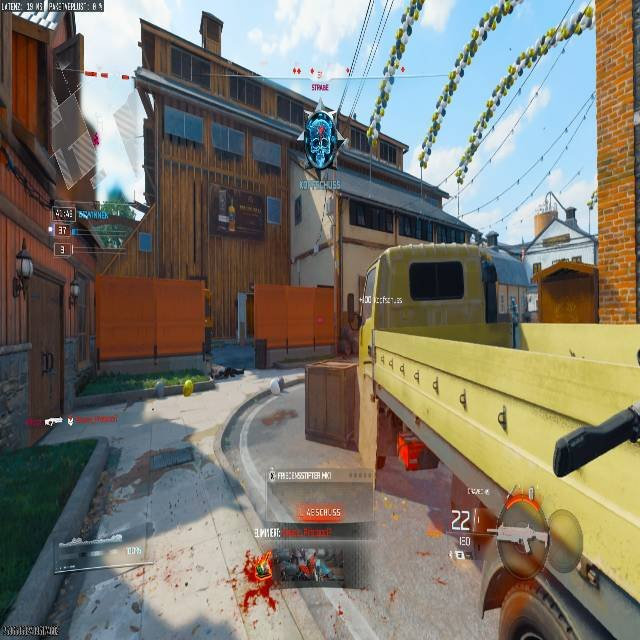player: (237, 549, 277, 619), (302, 106, 339, 181)
